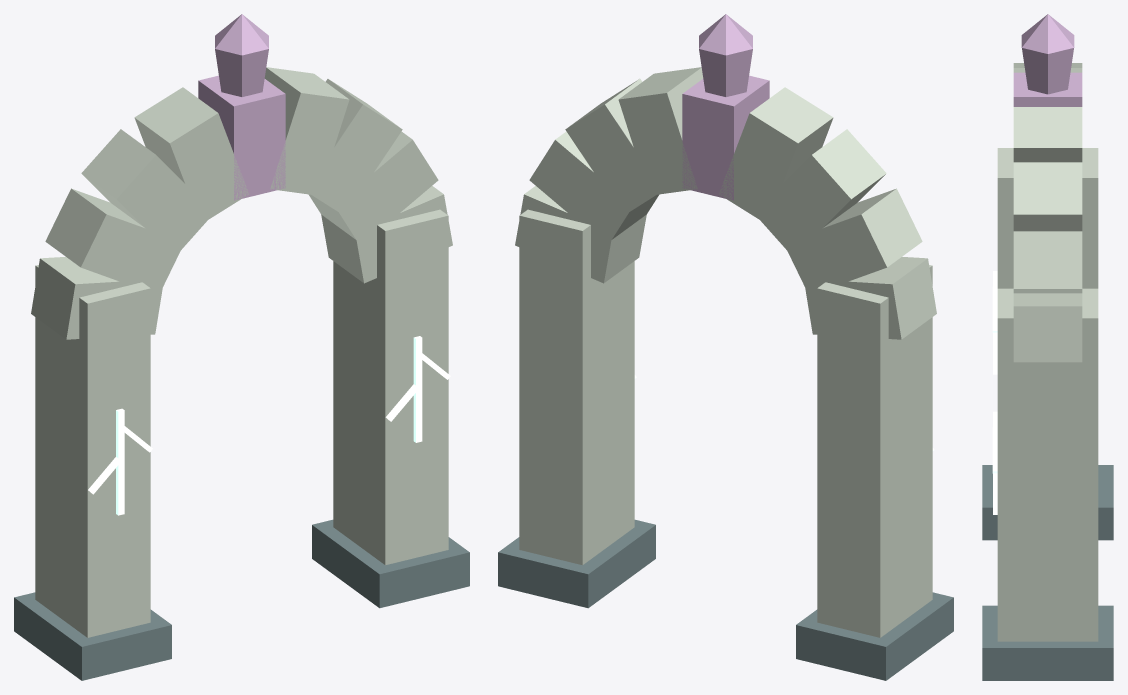
File: runestone-conservatory-runic-garden-arch__102.glb
The picture shows the model from 3 angles, left to right: view 1: azimuth 30°, elevation 25°; view 2: azimuth 150°, elevation 25°; view 3: azimuth 270°, elevation 25°; orthographic projection. The views are drawn at different scales.
Parts seen in each view (by area): view 1: runestone-conservatory-runic-arch; view 2: runestone-conservatory-runic-arch; view 3: runestone-conservatory-runic-arch.
Boxes of the visible parts, x1,y1,x2,y2 form: runestone-conservatory-runic-arch: (14,14,469,680); runestone-conservatory-runic-arch: (498,14,953,680); runestone-conservatory-runic-arch: (982,14,1113,680).
Bounding box in the file's own units: 2.15 × 3.15 × 0.65.
